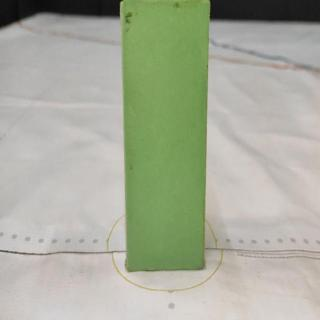greenbox: (116, 0, 214, 280)
